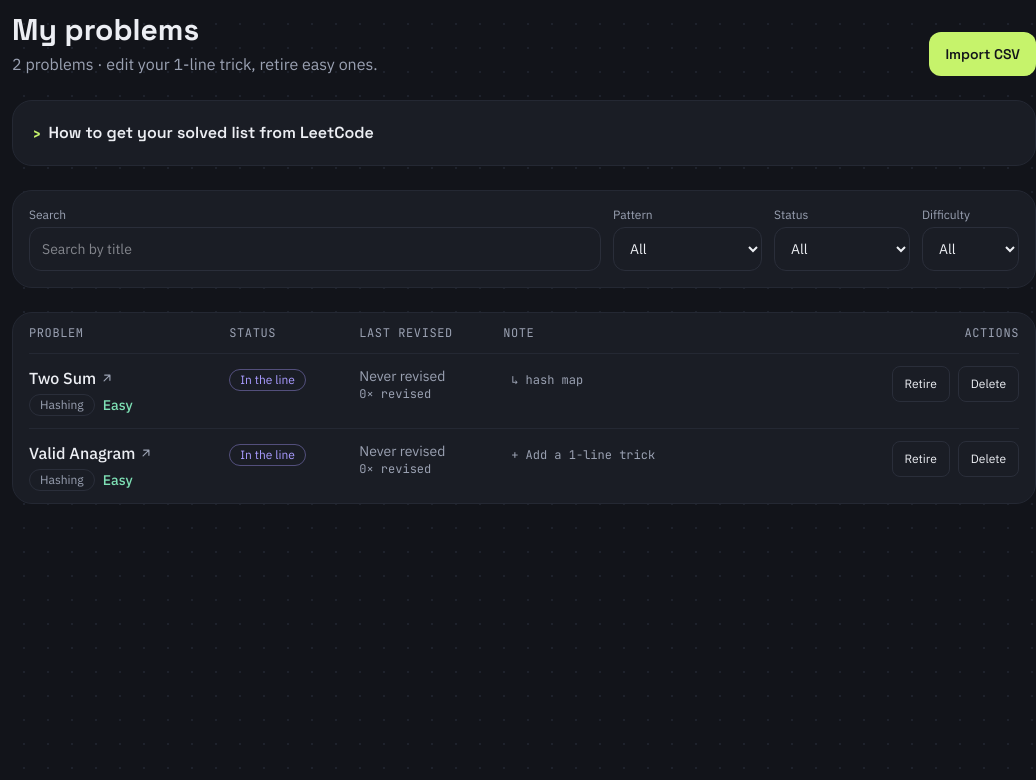
Test: My problems page › Escape cancels the note edit
The image size is (1036, 780).
Click the button with aria-label "Edit note for Two Sum". click: coordinates (547, 380)
box: [503,366,820,394]
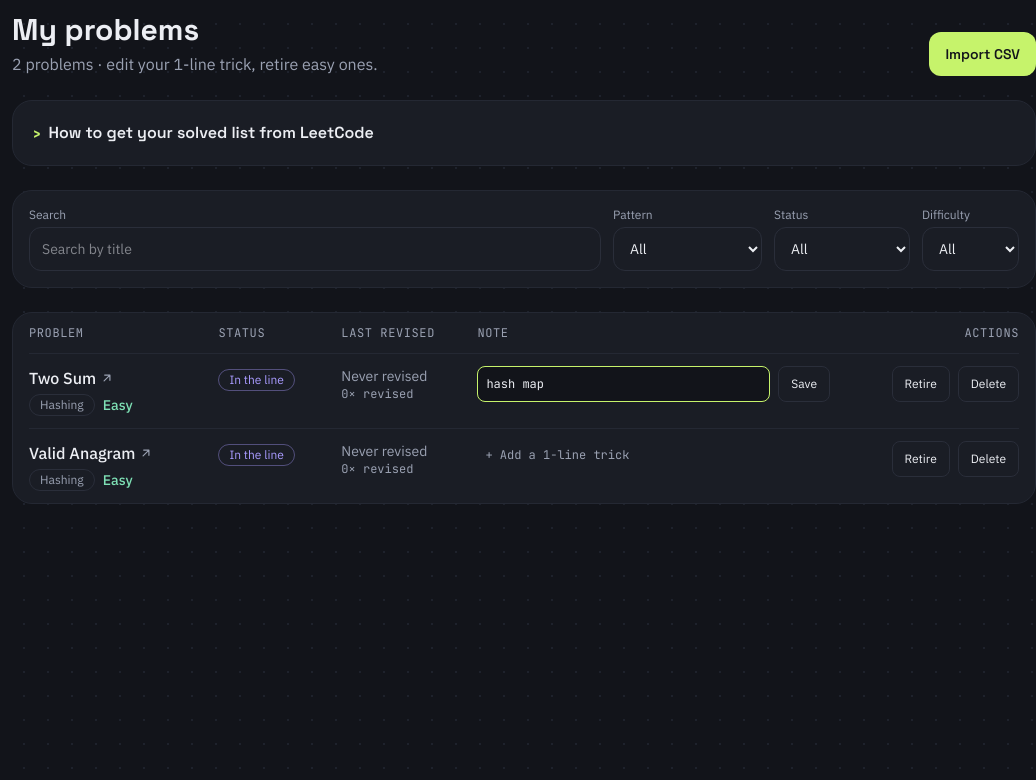
Type " changed" into the field named "Note for Two Sum". click: coordinates (624, 384)
box: [477,366,770,402]
Then press Escape
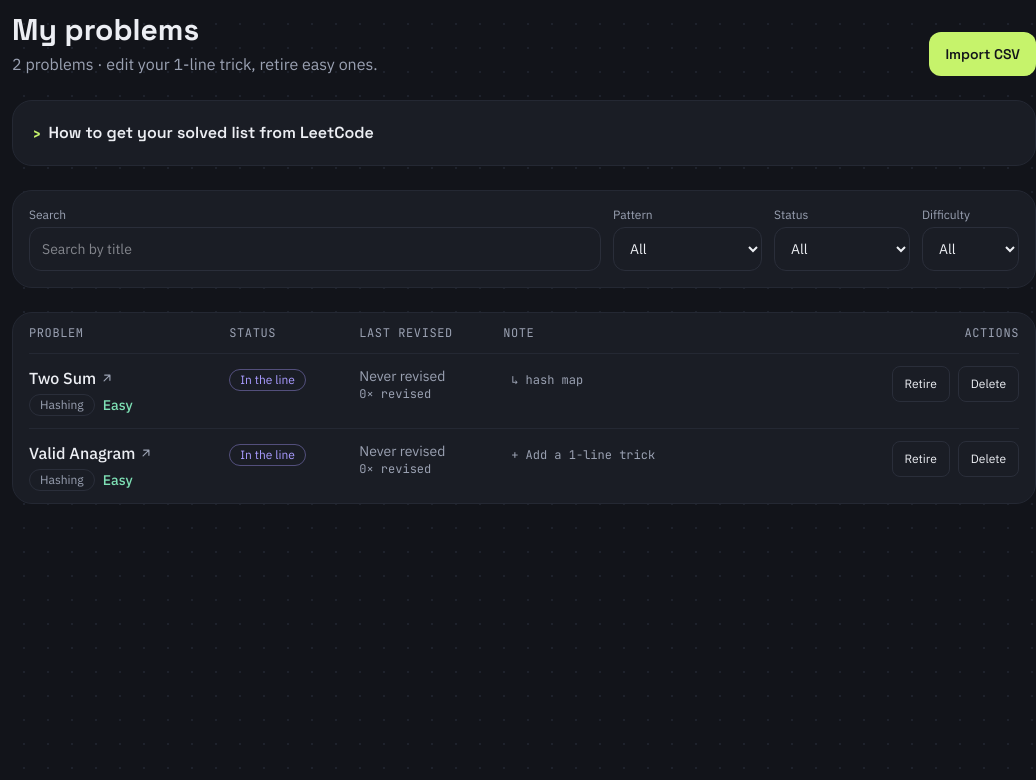
Check: the button "↳ hash map" is shown, box [503,366,820,394]
